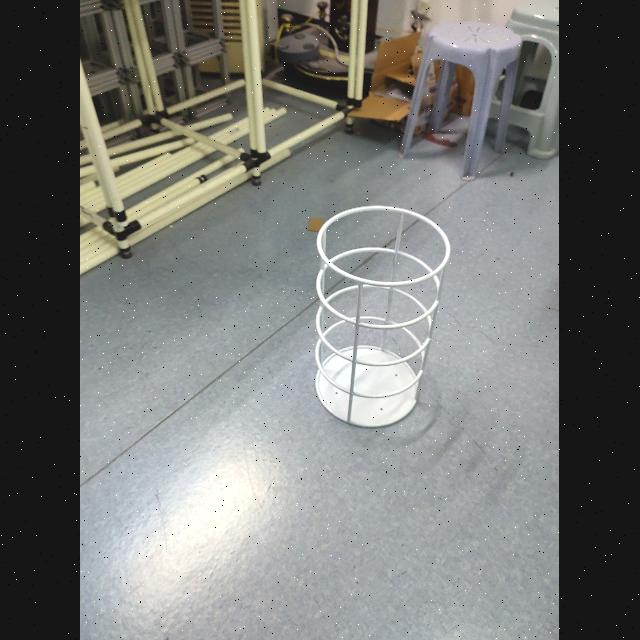S: (304, 201, 456, 431)
